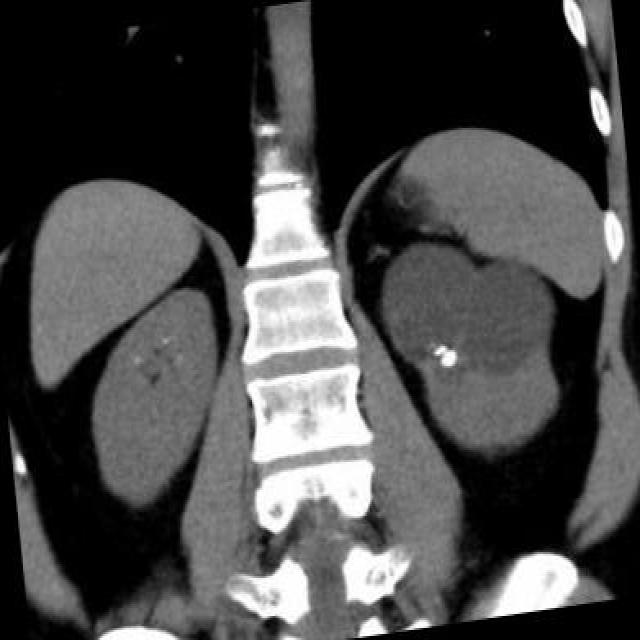Tas_Var: (435, 346, 464, 368), (429, 337, 447, 357), (170, 349, 188, 369), (130, 353, 148, 365), (160, 335, 176, 347)
